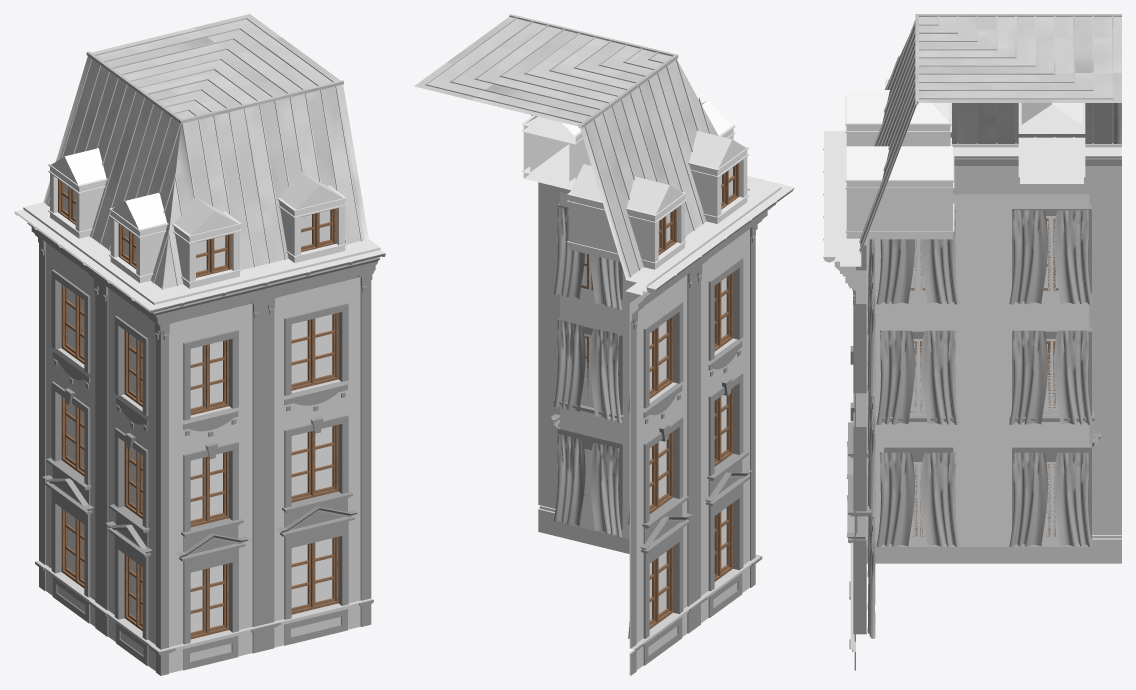
Rendered from Facade_Top_Small_Corner.fbx.
3 renders of one model, left to right at view 1: azimuth 30°, elevation 25°; view 2: azimuth 150°, elevation 25°; view 3: azimuth 270°, elevation 25°, orthographic. The views are drawn at different scales.
Parts seen in each view (by area): view 1: Facade_Top_Small_Corner; view 2: Facade_Top_Small_Corner; view 3: Facade_Top_Small_Corner.
Boxes of the visible parts, <box> form: Facade_Top_Small_Corner: <box>14,14,385,675</box>; Facade_Top_Small_Corner: <box>414,14,794,675</box>; Facade_Top_Small_Corner: <box>823,14,1121,670</box>.
Size of the model in its own units: 6.23 by 13.22 by 6.23.
